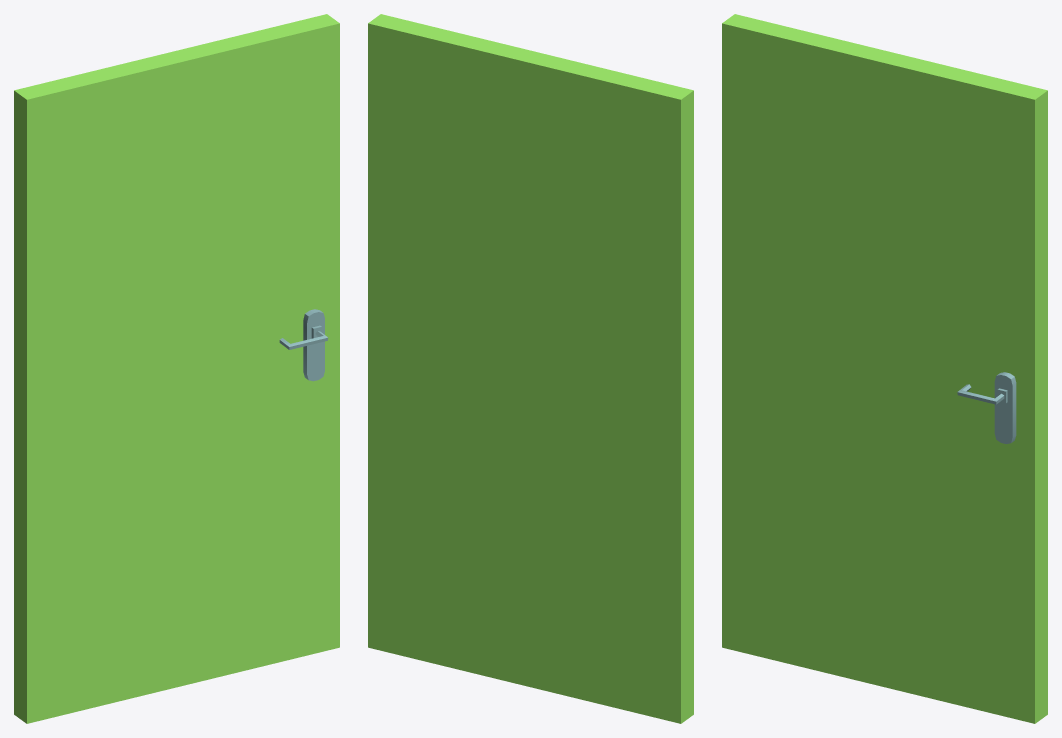
The model's file is puerta.FBX.
3 renders of one model, left to right at view 1: azimuth 30°, elevation 25°; view 2: azimuth 150°, elevation 25°; view 3: azimuth 330°, elevation 25°, orthographic.
Visible parts, largest first — view 1: Box002; view 2: Box002; view 3: Box002.
Part boxes in pixels (x1,y1,x2,y2): Box002: [14, 14, 339, 723]; Box002: [368, 14, 693, 723]; Box002: [722, 14, 1047, 723].
Size of the model in its own units: 59.13 by 113 by 8.64.
